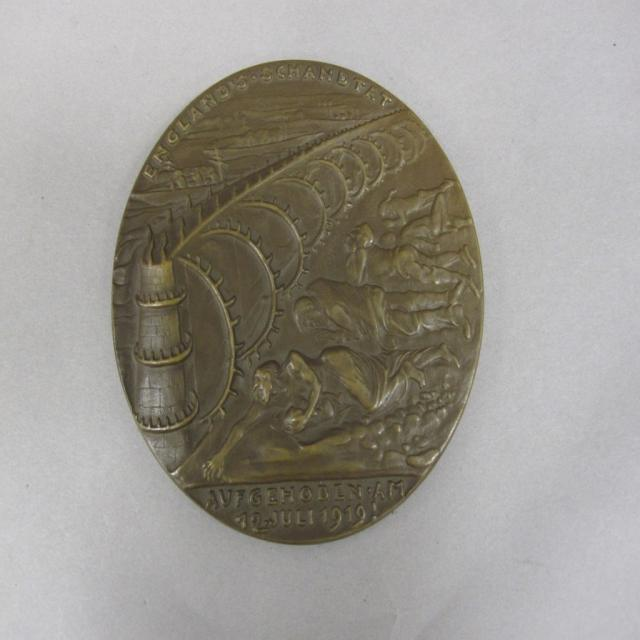Coin: (112, 60, 484, 542)
